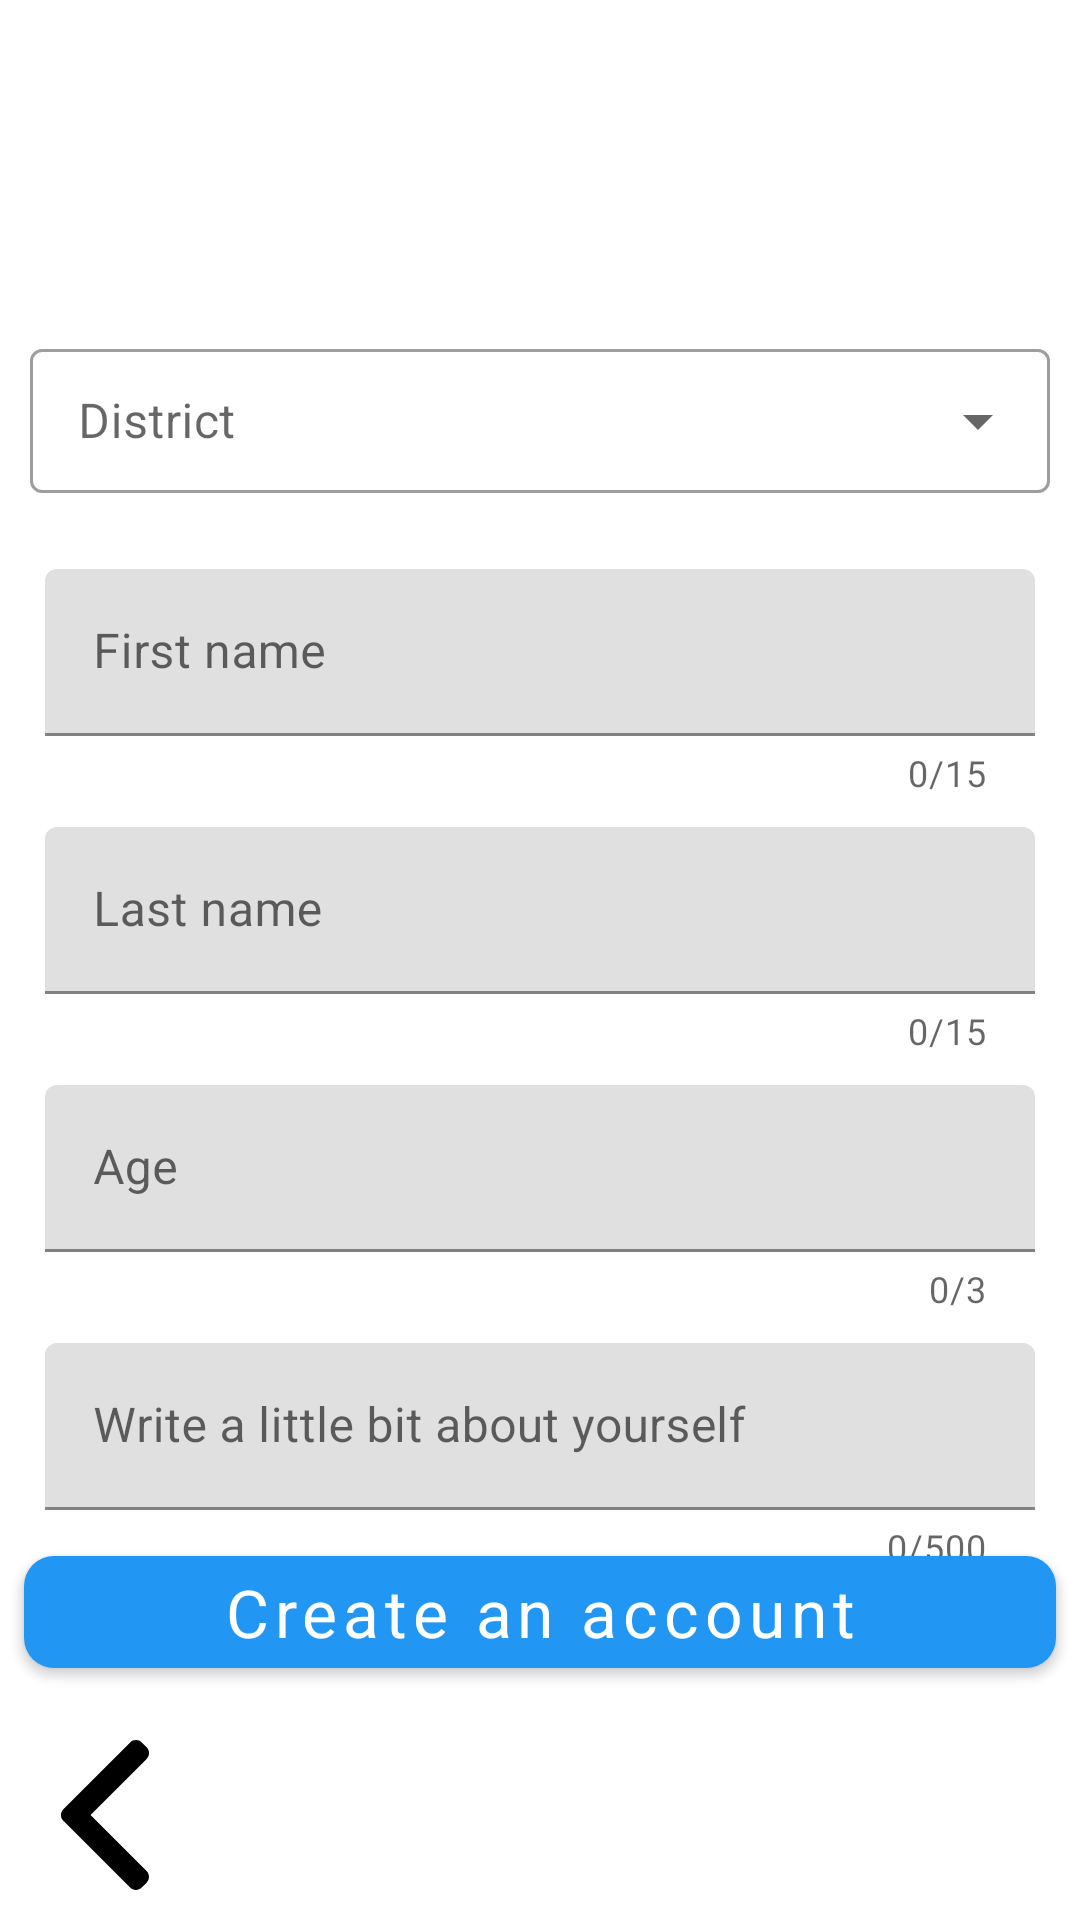

Where to tap for icons on this 1080 × 1920 app screen, as (x=x, y=y):
Left arrow: (x=105, y=1815)
